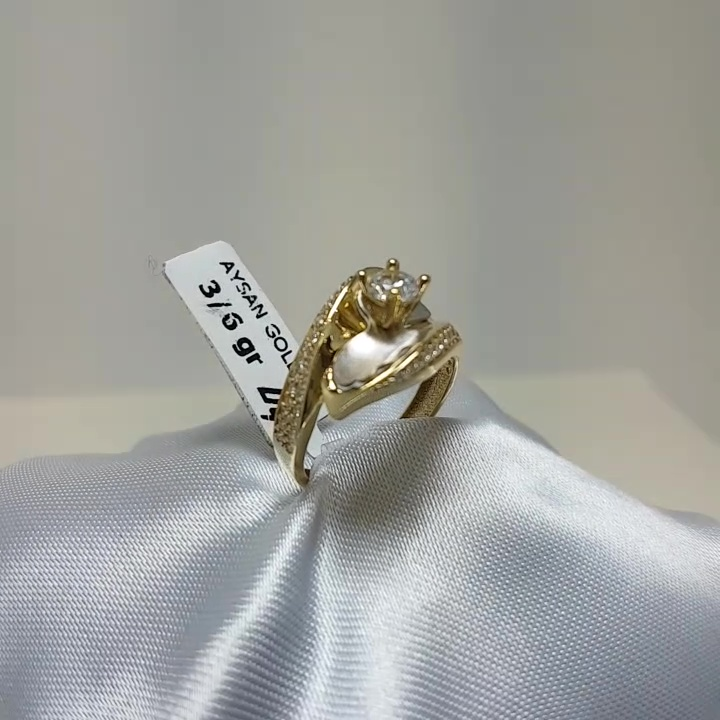Ring 6: (251, 252, 473, 467)
